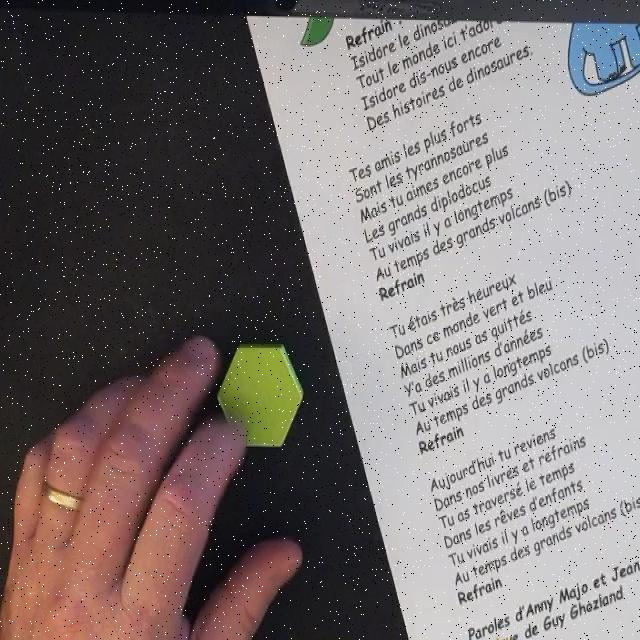hexagon: (215, 344, 305, 452)
